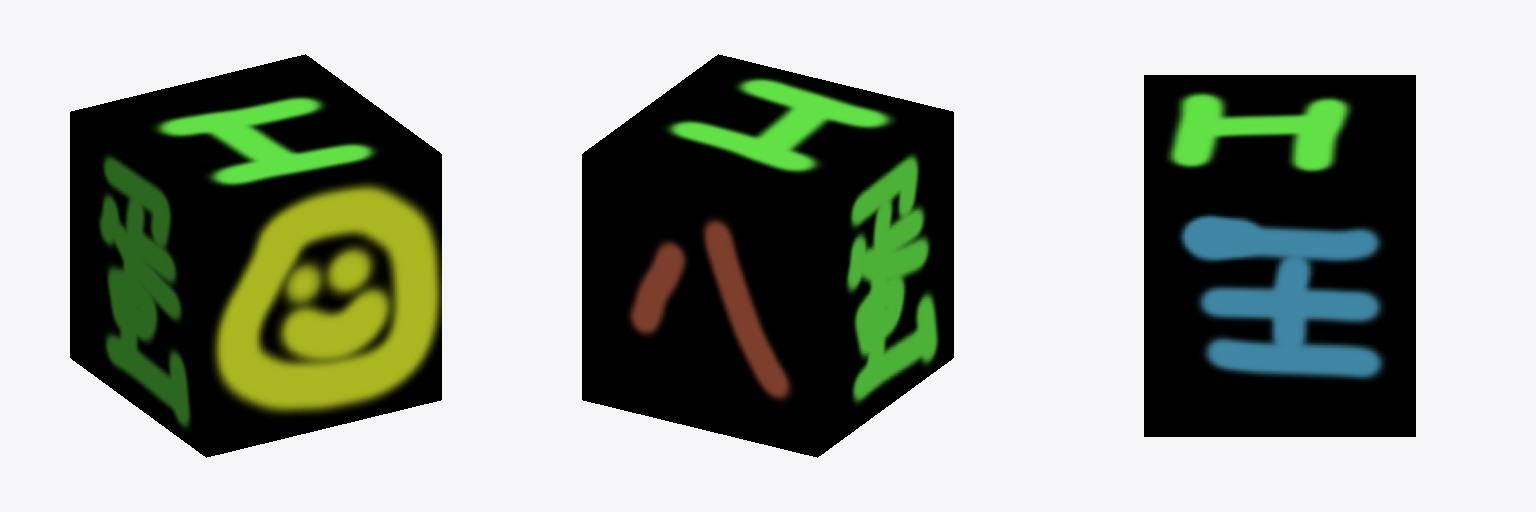
3 views of the same model, side by side, from view 1: azimuth 30°, elevation 25°; view 2: azimuth 150°, elevation 25°; view 3: azimuth 270°, elevation 25° (orthographic).
Parts seen in each view (by area): view 1: Cube_cubeMaterial; view 2: Cube_cubeMaterial; view 3: Cube_cubeMaterial.
Part boxes in pixels (x1,y1,x2,y2): Cube_cubeMaterial: (70,54,441,457); Cube_cubeMaterial: (582,54,953,457); Cube_cubeMaterial: (1144,75,1415,436).
Bounding box in the file's own units: 2 × 2 × 2.
Materials: 1 (1 with a texture image).